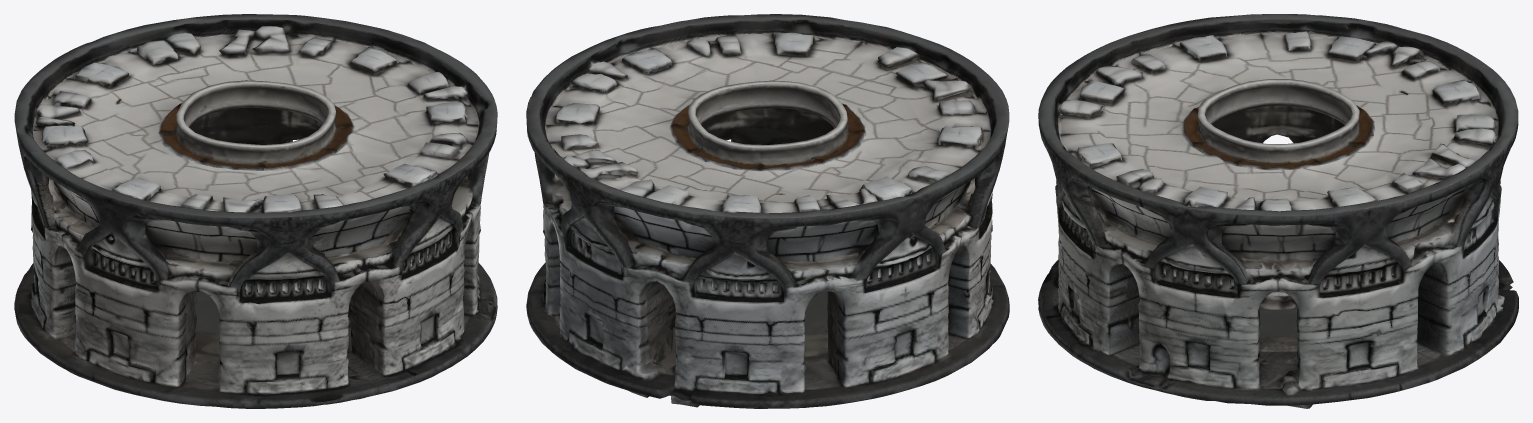
File: room_round-web.glb
3 renders of one model, left to right at view 1: azimuth 30°, elevation 25°; view 2: azimuth 150°, elevation 25°; view 3: azimuth 270°, elevation 25°, orthographic.
Bounding box in the file's own units: 2 × 0.9296 × 2.
1 material, 1 textured.
